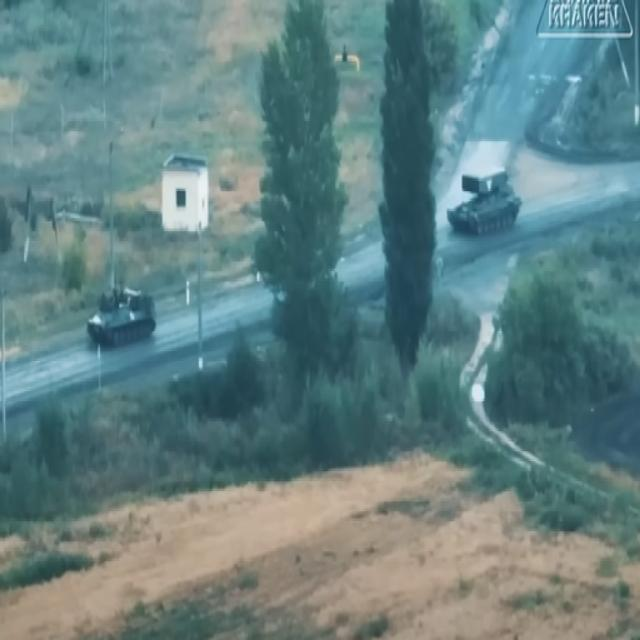APC-IFV: (82, 278, 160, 351)
MLRS: (444, 160, 521, 242)
